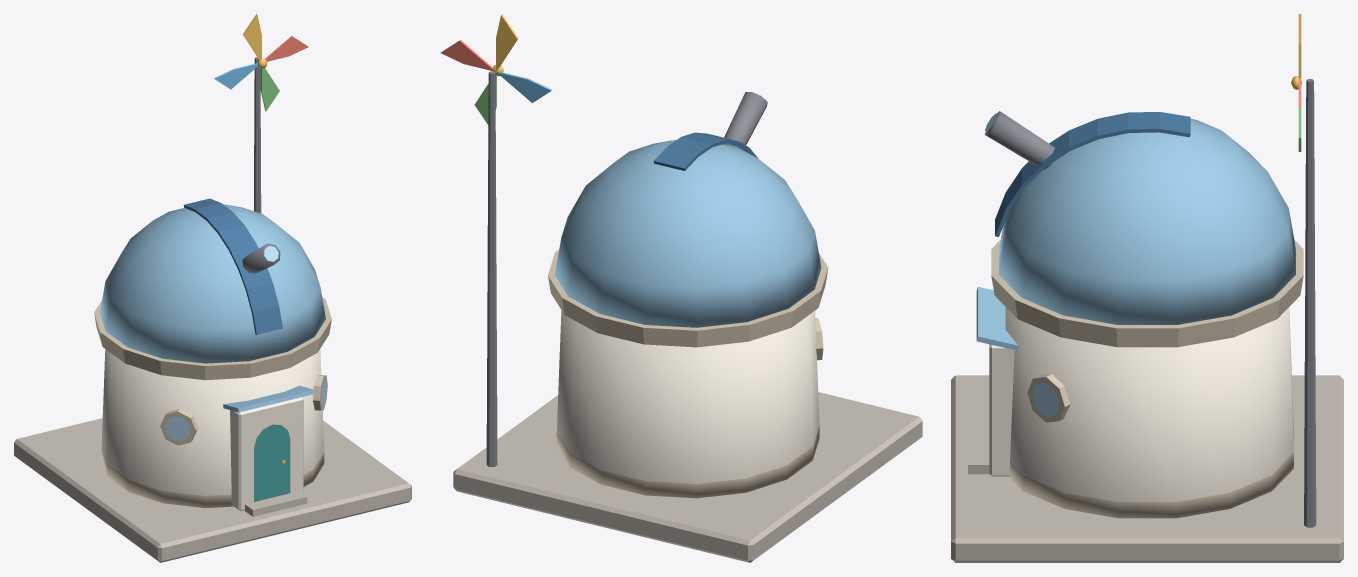
File: observatory.glb
The picture shows the model from 3 angles, left to right: view 1: azimuth 30°, elevation 25°; view 2: azimuth 150°, elevation 25°; view 3: azimuth 270°, elevation 25°; orthographic projection. The views are drawn at different scales.
Parts seen in each view (by area): view 1: observatory; view 2: observatory; view 3: observatory.
Boxes of the visible parts, left/top/right/bottom form: observatory: left=14, top=14, right=411, bottom=562; observatory: left=440, top=14, right=922, bottom=562; observatory: left=951, top=14, right=1343, bottom=562.
Bounding box in the file's own units: 7.7 × 10.5 × 7.
